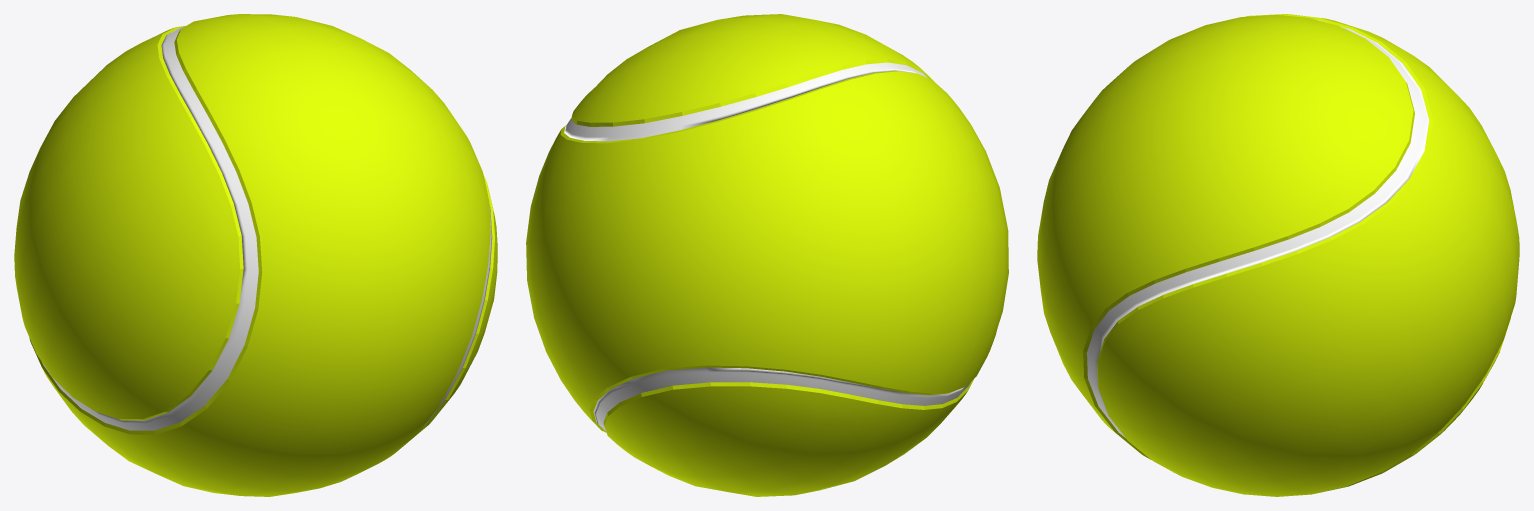
The model's file is TennisBall.fbx.
The picture shows the model from 3 angles, left to right: view 1: azimuth 30°, elevation 25°; view 2: azimuth 150°, elevation 25°; view 3: azimuth 270°, elevation 25°; orthographic projection.
Parts seen in each view (by area): view 1: Ball; view 2: Ball; view 3: Ball.
Boxes of the visible parts, x1,y1,x2,y2 form: Ball: (14,14,497,496); Ball: (526,14,1008,496); Ball: (1037,14,1519,496).
Bounding box in the file's own units: 84.05 × 84.35 × 84.29.
